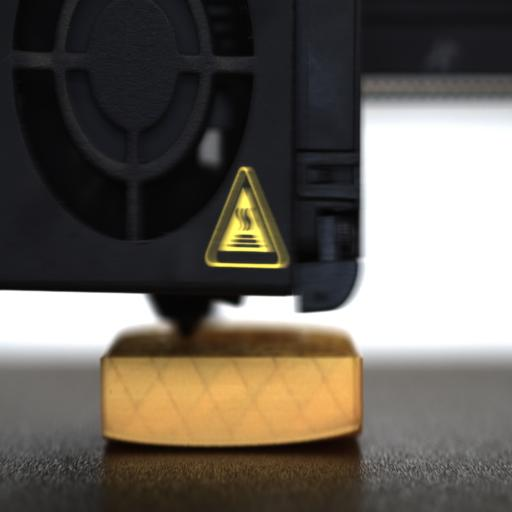warp: (311, 418, 366, 450), (100, 427, 149, 453)
